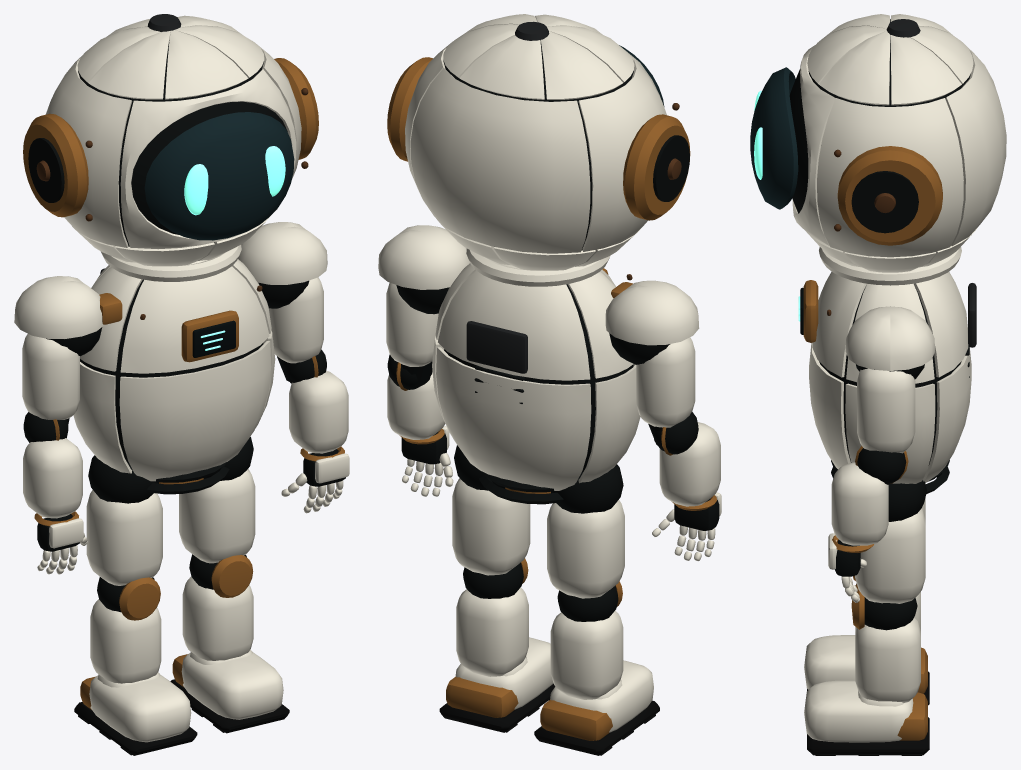
File: hero-robot.lod0.glb
3 views of the same model, side by side, from view 1: azimuth 30°, elevation 25°; view 2: azimuth 150°, elevation 25°; view 3: azimuth 270°, elevation 25° (orthographic). The views are drawn at different scales.
Parts seen in each view (by area): view 1: robot_Ceramic • warm ivory, Head_Ceramic • warm ivory, Head_Faceplate • deep teal glass, Head_Trim • graphite and brass, Arm.L_Ceramic • warm ivory, Arm.R_Ceramic • warm ivory, Leg.L_Ceramic • warm ivory, robot_Trim • graphite and brass, Leg.R_Ceramic • warm ivory, Foot.R_Ceramic • warm ivory, Foot.L_Ceramic • warm ivory, Shin.R_Ceramic • warm ivory (+16 smaller); view 2: Head_Ceramic • warm ivory, robot_Ceramic • warm ivory, Arm.L_Ceramic • warm ivory, Head_Trim • graphite and brass, Arm.R_Ceramic • warm ivory, Leg.L_Ceramic • warm ivory, Leg.R_Ceramic • warm ivory, robot_Trim • graphite and brass, Shin.L_Ceramic • warm ivory, Shin.R_Ceramic • warm ivory, Foot.L_Trim • graphite and brass, Forearm.L_Ceramic • warm ivory (+14 smaller); view 3: Head_Ceramic • warm ivory, robot_Ceramic • warm ivory, Head_Trim • graphite and brass, Arm.R_Ceramic • warm ivory, Foot.R_Ceramic • warm ivory, Head_Faceplate • deep teal glass, Shin.R_Ceramic • warm ivory, Leg.R_Ceramic • warm ivory, Forearm.R_Ceramic • warm ivory, robot_Trim • graphite and brass, Foot.R_Trim • graphite and brass, Foot.L_Ceramic • warm ivory (+5 smaller).
Part boxes in pixels (x1,y1,x2,y2): robot_Ceramic • warm ivory: (73, 245, 275, 481); Head_Ceramic • warm ivory: (46, 15, 301, 266); Head_Faceplate • deep teal glass: (144, 112, 294, 240); Head_Trim • graphite and brass: (23, 14, 318, 246); Arm.L_Ceramic • warm ivory: (14, 276, 104, 419); Arm.R_Ceramic • warm ivory: (238, 222, 327, 363); Leg.L_Ceramic • warm ivory: (86, 490, 162, 585); robot_Trim • graphite and brass: (80, 268, 263, 494); Leg.R_Ceramic • warm ivory: (179, 469, 255, 563); Foot.R_Ceramic • warm ivory: (181, 650, 283, 719); Foot.L_Ceramic • warm ivory: (89, 672, 191, 742); Shin.R_Ceramic • warm ivory: (182, 576, 253, 660); Head_Ceramic • warm ivory: (405, 14, 666, 270); robot_Ceramic • warm ivory: (432, 248, 640, 490); Arm.L_Ceramic • warm ivory: (605, 280, 699, 427); Head_Trim • graphite and brass: (387, 21, 690, 250); Arm.R_Ceramic • warm ivory: (378, 225, 469, 366); Leg.L_Ceramic • warm ivory: (547, 500, 624, 598); Leg.R_Ceramic • warm ivory: (452, 478, 530, 575); robot_Trim • graphite and brass: (444, 268, 633, 504); Shin.L_Ceramic • warm ivory: (550, 610, 623, 699); Shin.R_Ceramic • warm ivory: (456, 587, 528, 676); Foot.L_Trim • graphite and brass: (534, 699, 659, 755); Forearm.L_Ceramic • warm ivory: (659, 422, 720, 506); Head_Ceramic • warm ivory: (792, 14, 1006, 272); robot_Ceramic • warm ivory: (809, 247, 971, 483); Head_Trim • graphite and brass: (789, 19, 970, 245); Arm.R_Ceramic • warm ivory: (845, 306, 934, 453); Foot.R_Ceramic • warm ivory: (804, 680, 913, 742); Head_Faceplate • deep teal glass: (750, 67, 798, 209); Shin.R_Ceramic • warm ivory: (855, 617, 920, 702); Leg.R_Ceramic • warm ivory: (855, 508, 925, 603); Forearm.R_Ceramic • warm ivory: (831, 462, 888, 545); robot_Trim • graphite and brass: (800, 280, 976, 493); Foot.R_Trim • graphite and brass: (807, 692, 929, 755); Foot.L_Ceramic • warm ivory: (804, 635, 855, 689).
Bounding box in the file's own units: 0.848 × 1.77 × 0.5943.
Materials: 4 (1 with a texture image).
